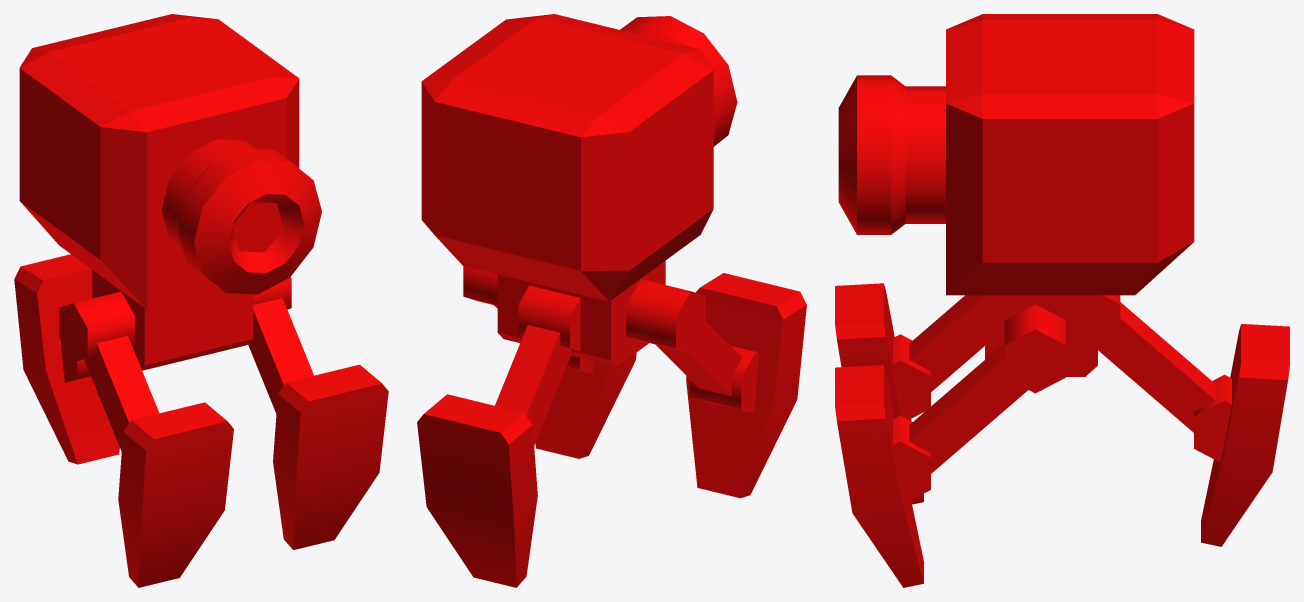
The model's file is mech_test_subst.FBX.
The picture shows the model from 3 angles, left to right: view 1: azimuth 30°, elevation 25°; view 2: azimuth 150°, elevation 25°; view 3: azimuth 270°, elevation 25°; orthographic projection. The views are drawn at different scales.
Visible parts, largest first — view 1: Body; view 2: Body; view 3: Body.
Boxes of the visible parts, bbox=[...] form: Body: bbox=[14, 14, 388, 587]; Body: bbox=[417, 14, 806, 587]; Body: bbox=[835, 14, 1289, 587].
Bounding box in the file's own units: 24.4 × 36.63 × 42.55.
